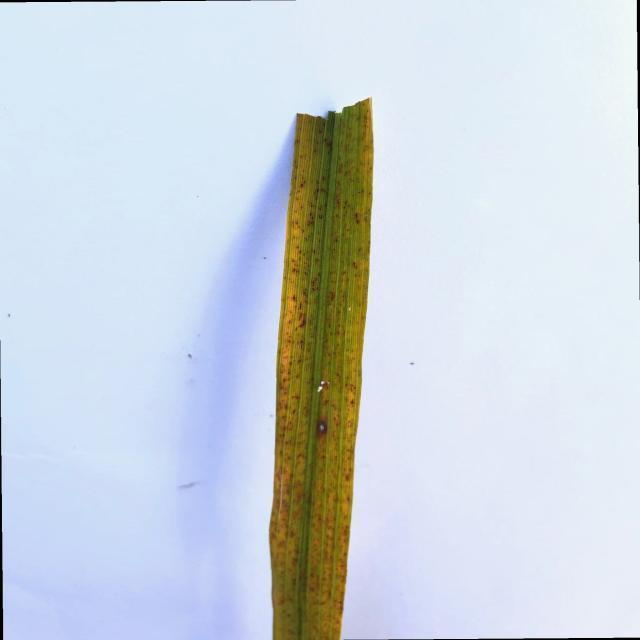Rice Tungro: (265, 93, 380, 640)
